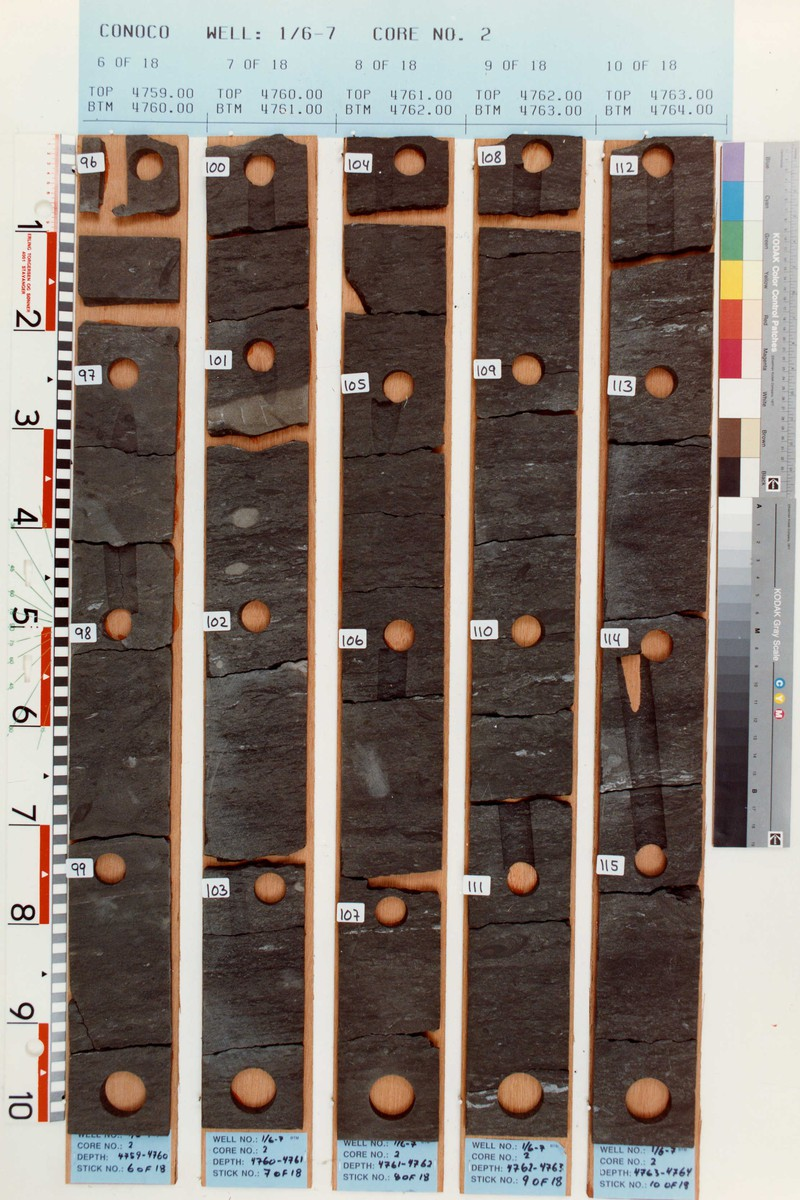core: (593, 140, 718, 1143), (471, 135, 582, 1140), (70, 136, 178, 1140), (342, 136, 445, 1138), (204, 136, 305, 1132)
